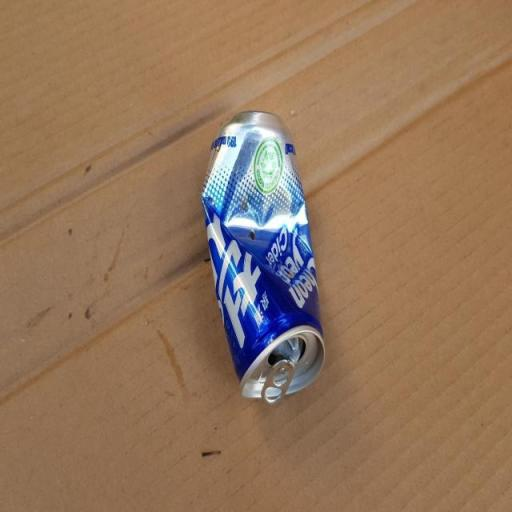metal: (188, 92, 338, 419)
